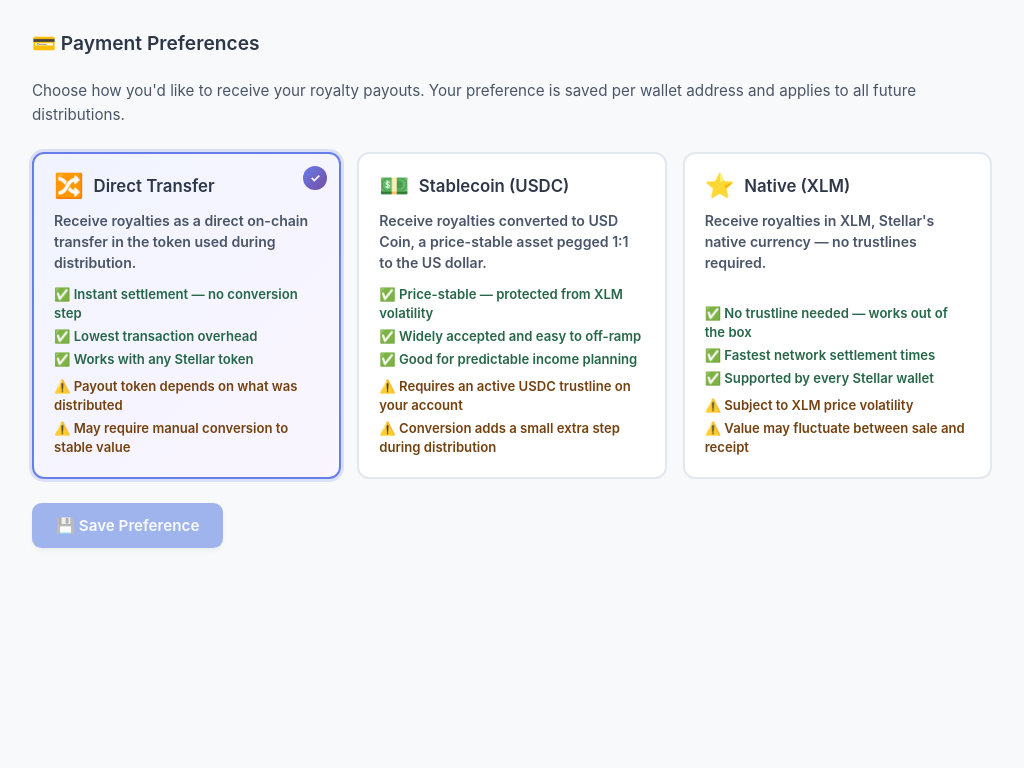
Scenario: PaymentPreferences optimistic save (#771) › keeps the optimistic value and shows a pending message when the write is queued offline
Click the radio button labelled "Stablecoin": (494,186) [357,152,667,479]
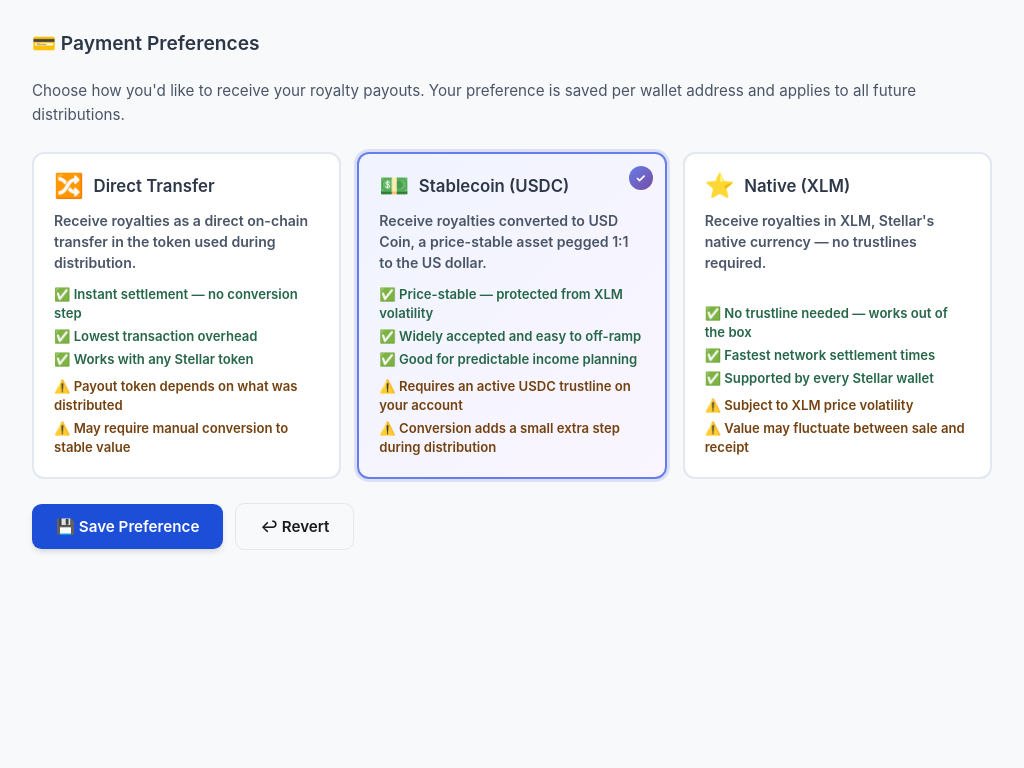
Click the button "💾 Save Preference": (128,526) [32,504,223,549]
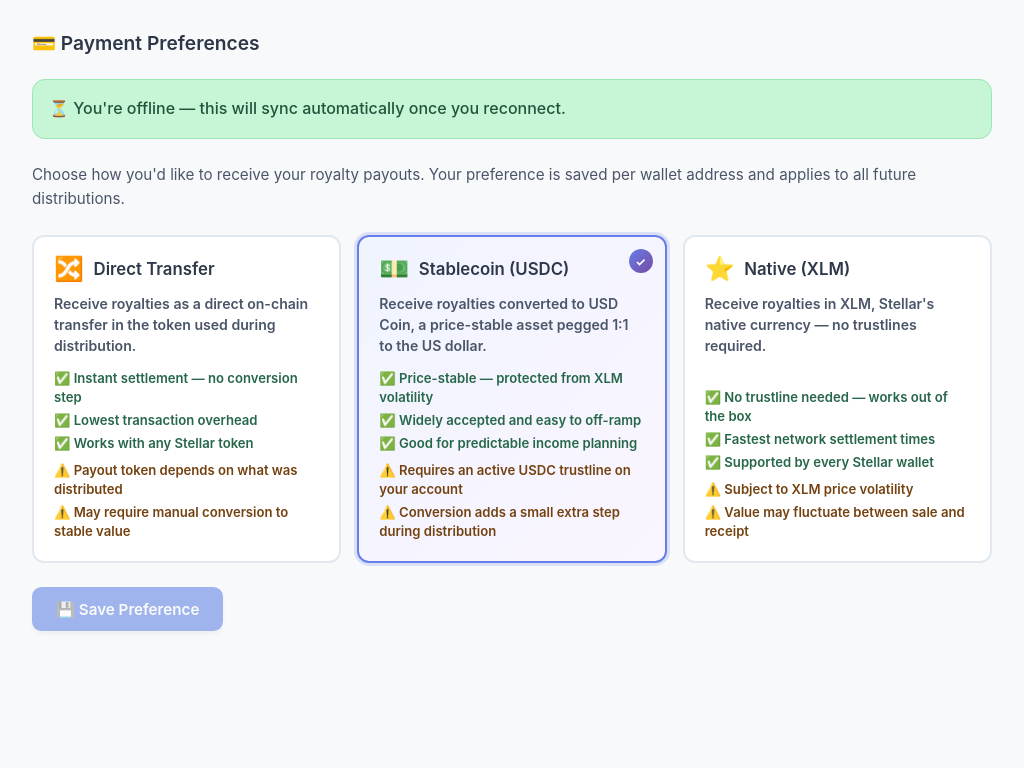
Now the message reads "⏳ You're offline — this will sync automatically once you reconnect.", box [49,98,566,118]
